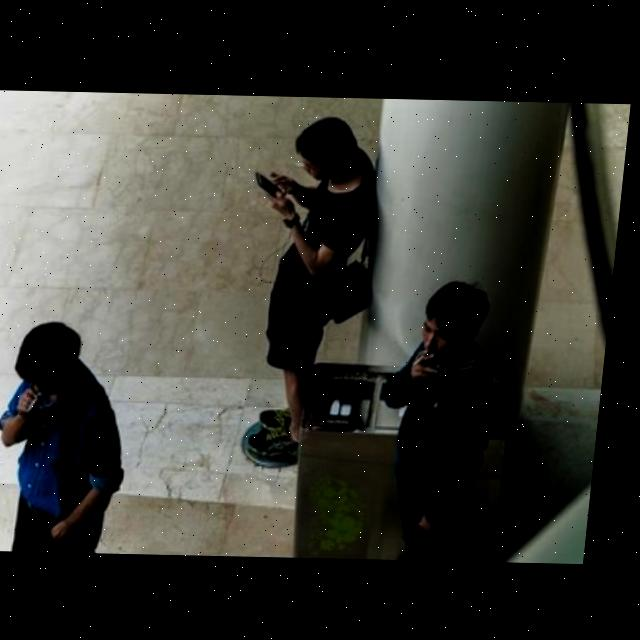cigarette: (420, 353, 430, 365), (38, 399, 46, 410), (298, 161, 308, 166)
